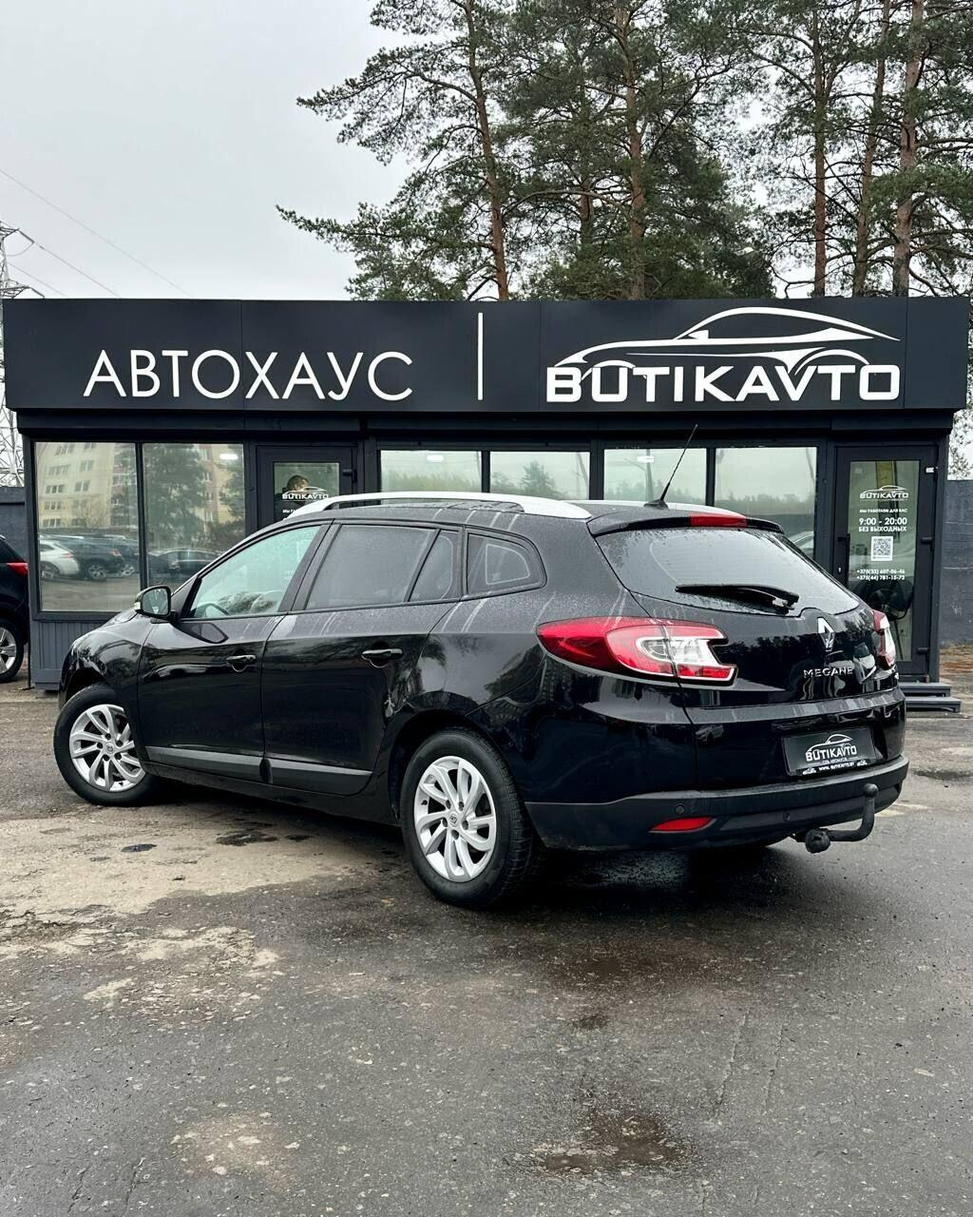Megane_2012-2014: (51, 494, 922, 918)
